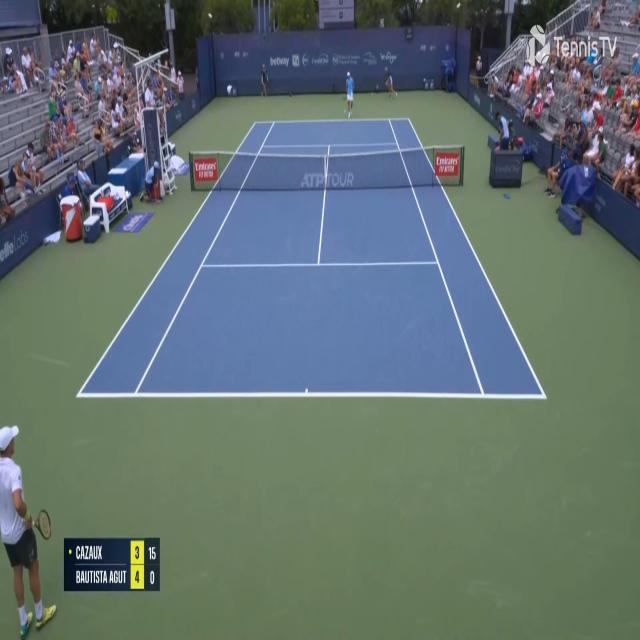tennis-player: (0, 419, 56, 639), (344, 68, 355, 119)
